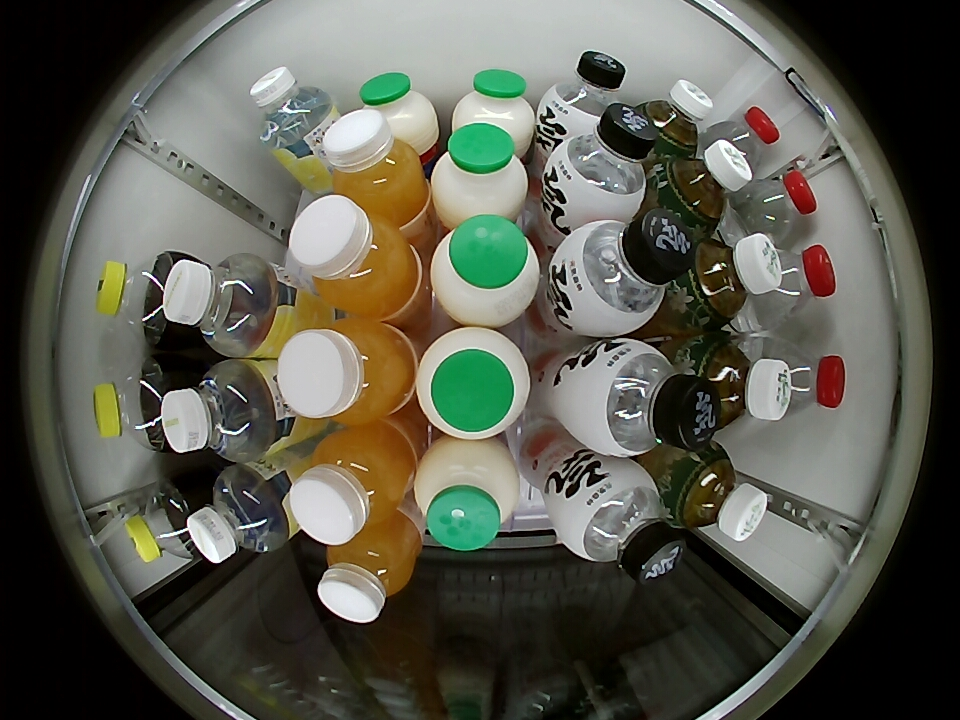baishikele: (97, 253, 175, 345), (94, 359, 170, 452), (126, 481, 199, 563)
liziyuan: (417, 327, 531, 439), (430, 218, 540, 328), (416, 437, 520, 552), (431, 123, 530, 225), (451, 69, 533, 149), (358, 71, 438, 149)
moliqingcha: (688, 335, 792, 434), (678, 232, 784, 329), (665, 445, 769, 542), (655, 138, 753, 234), (638, 79, 712, 158)
nongfushanquan: (759, 242, 837, 327), (769, 338, 846, 414), (738, 169, 818, 241), (711, 105, 780, 172)
qinningshui: (161, 254, 274, 357), (159, 360, 273, 462), (186, 465, 289, 564), (250, 66, 334, 156)
weic: (289, 193, 424, 318), (287, 423, 418, 546), (278, 321, 417, 421), (321, 110, 431, 225), (318, 512, 421, 623)
yuanqishui: (550, 212, 693, 337), (572, 339, 718, 457), (558, 462, 685, 584), (545, 104, 659, 220), (541, 51, 627, 133)
